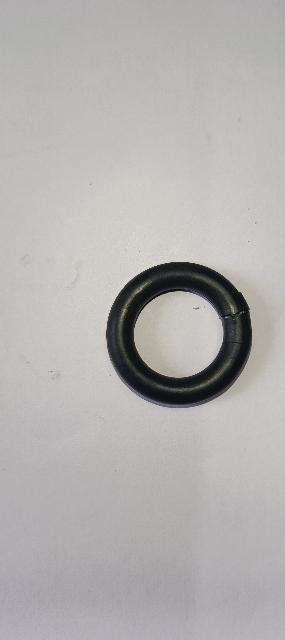crack: (221, 308, 251, 319)
scratch: (222, 341, 249, 346), (236, 291, 241, 294)
